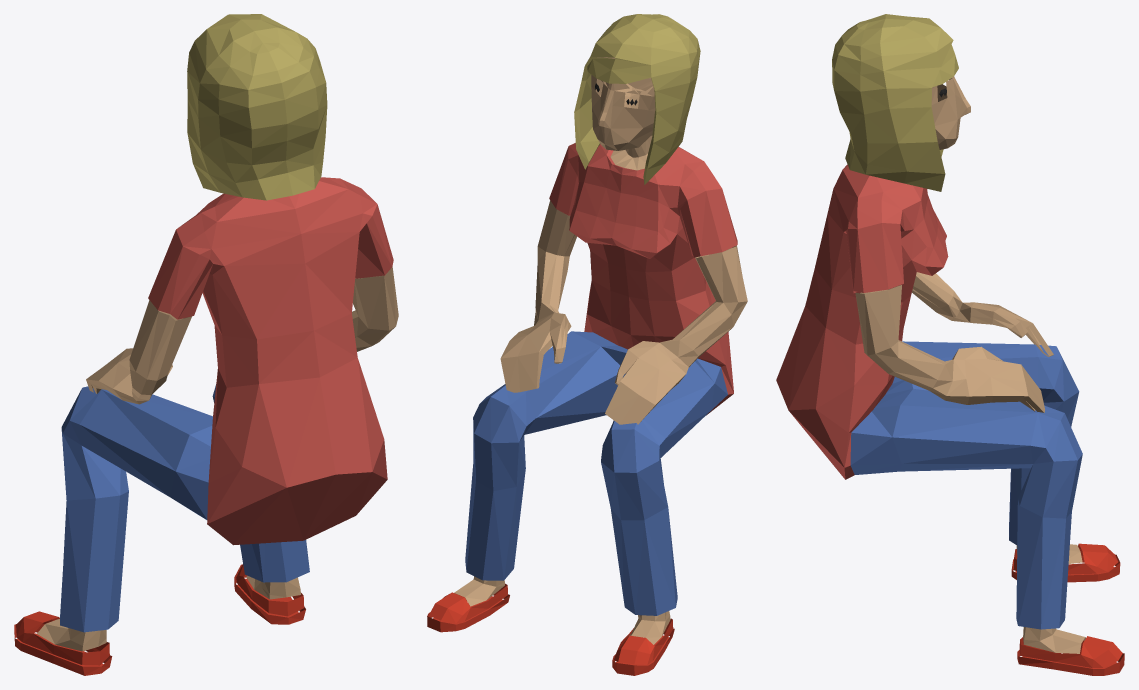
File: person_6_sit.fbx
3 renders of one model, left to right at view 1: azimuth 30°, elevation 25°; view 2: azimuth 150°, elevation 25°; view 3: azimuth 270°, elevation 25°, orthographic. The views are drawn at different scales.
Visible parts, largest first — view 1: Woman; view 2: Woman; view 3: Woman.
Boxes of the visible parts, left/top/right/bottom form: Woman: left=14, top=14, right=398, bottom=675; Woman: left=427, top=14, right=747, bottom=675; Woman: left=776, top=14, right=1124, bottom=675.
Bounding box in the file's own units: 0.4112 × 1 × 0.5319.
